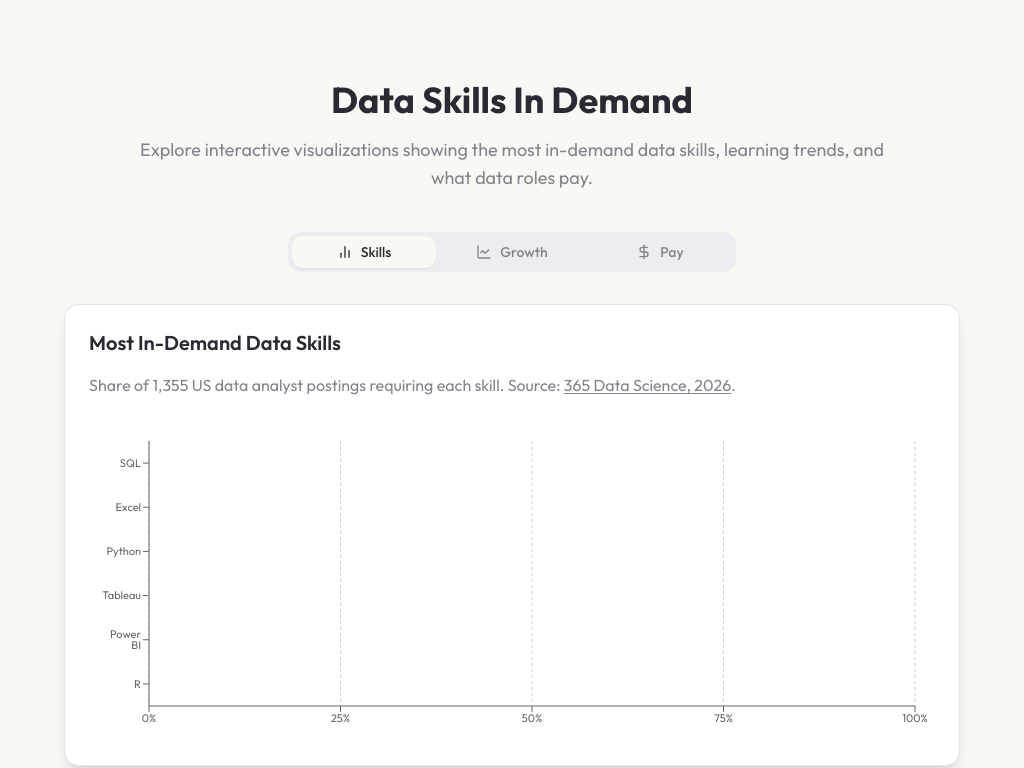
InteractiveShowcase › still marks the growth chart as sample data, since it is not sourced
This screenshot has width=1024, height=768.
Click the tab "Growth": (512, 252) [440,236,584,268]
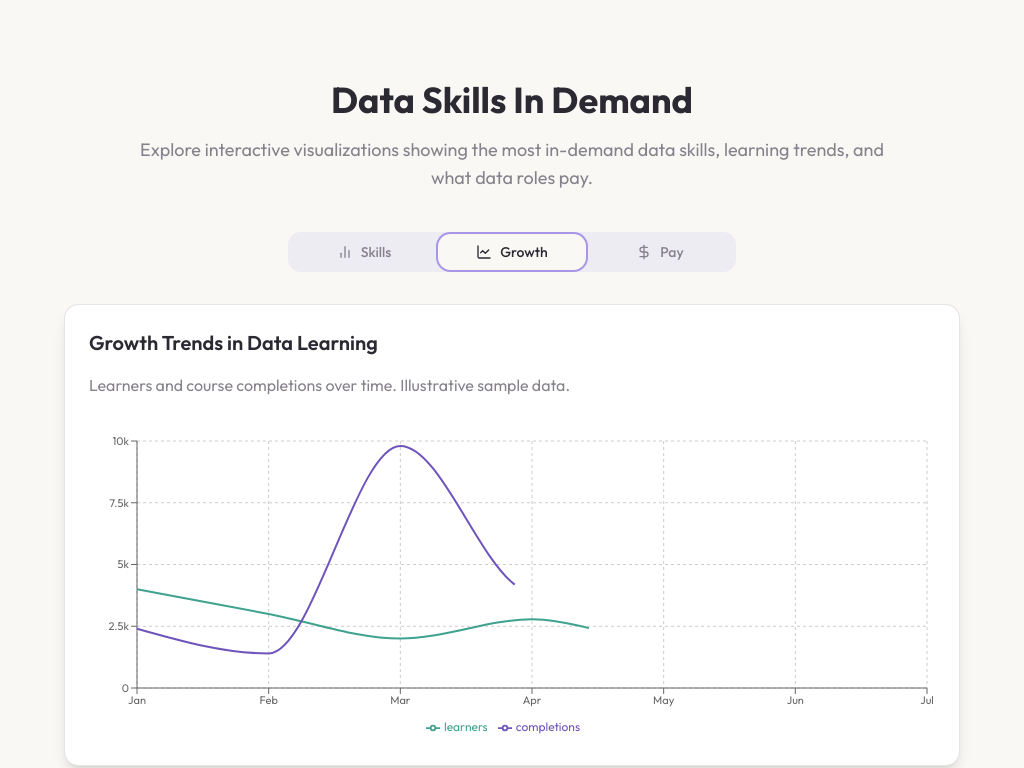
Expected: the text "Illustrative sample data" is shown, [89,375,570,395]
